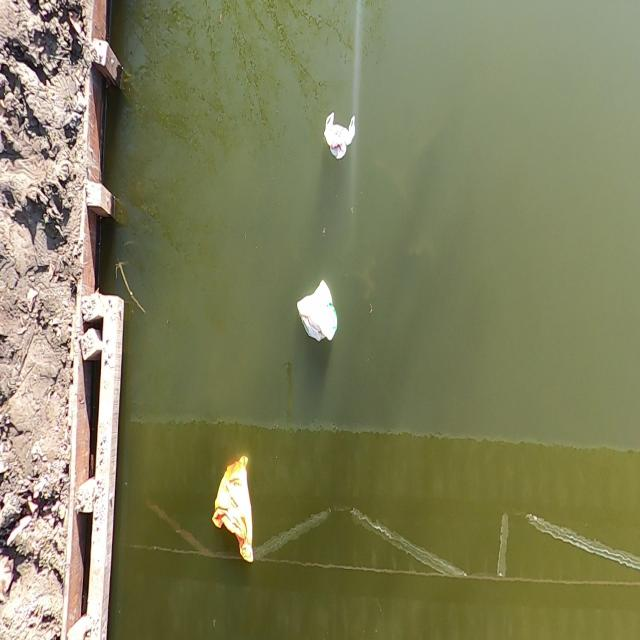Sac plastique: (206, 453, 268, 573), (294, 276, 345, 351), (319, 104, 362, 162)
